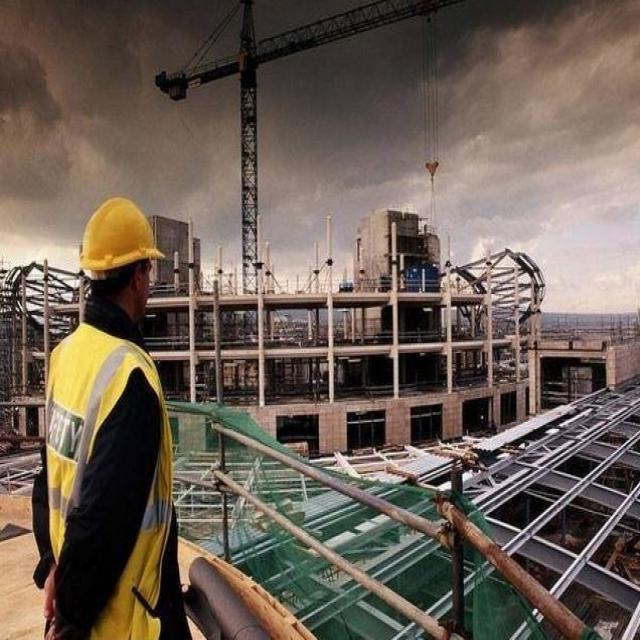Reflective-Jacket: (35, 316, 176, 638)
Safety-Helmet: (68, 187, 167, 284)
